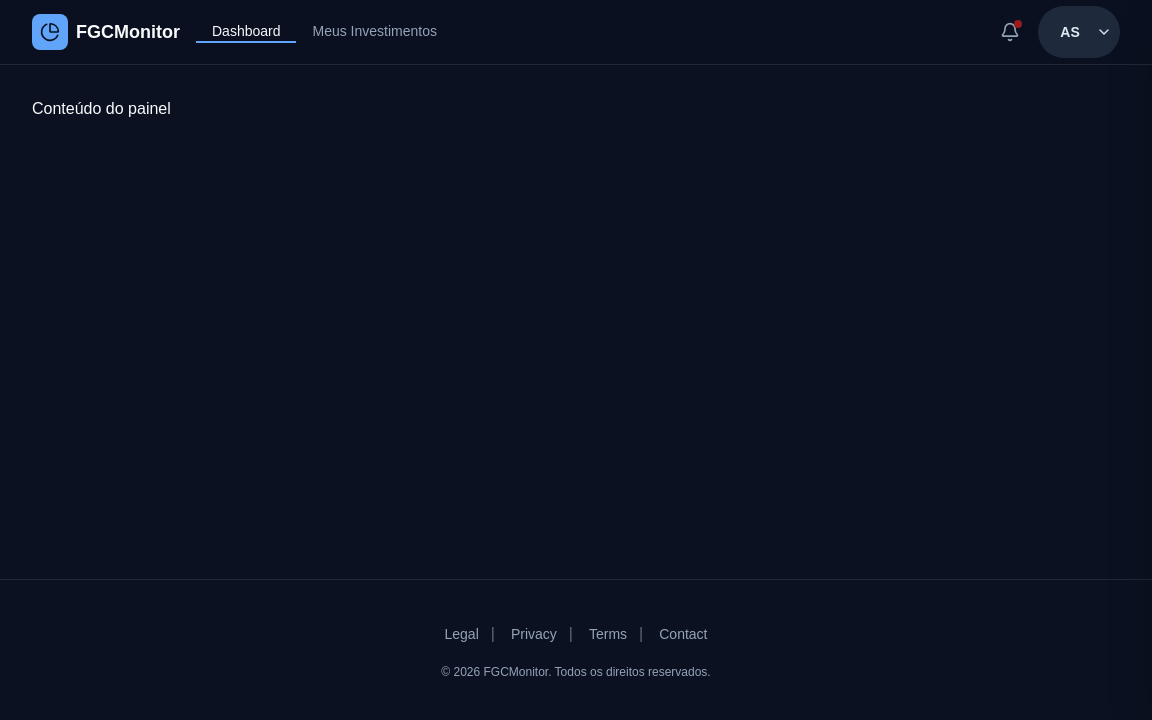
Scenario: AppLayout › mostra o menu do perfil do usuário no header
The width and height of the screenshot is (1152, 720).
Click the button with aria-label "menu do perfil": (1079, 32) [1038, 6, 1120, 58]
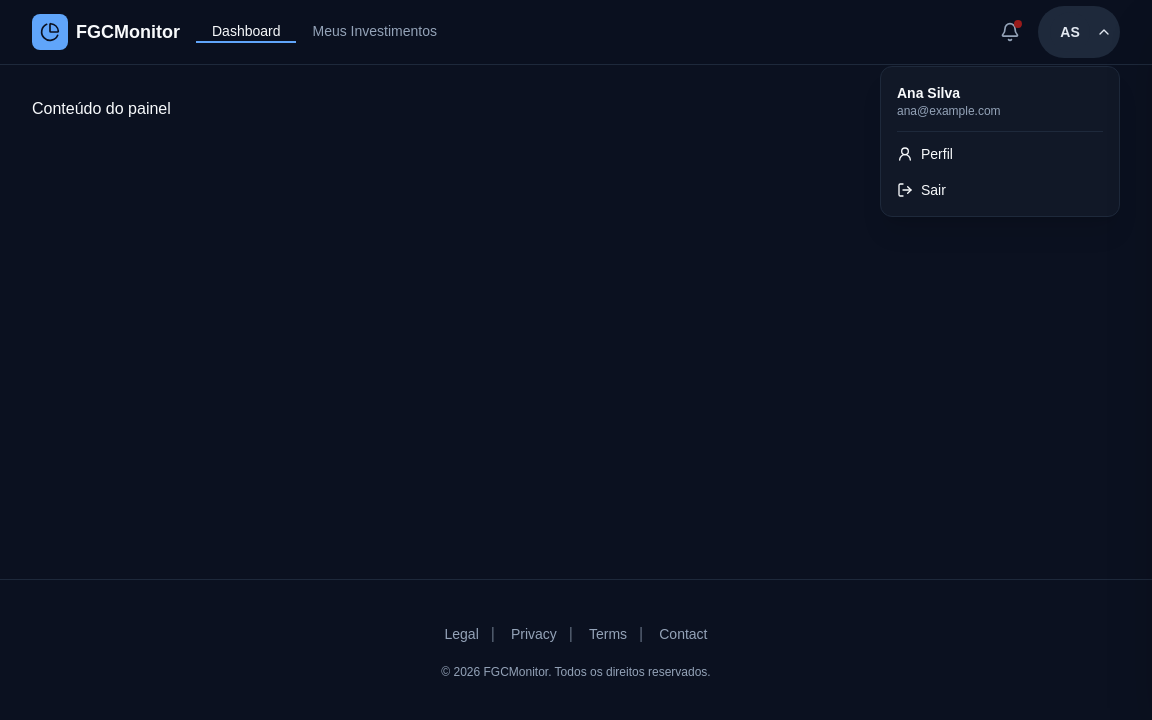
Now the text "Ana Silva" is shown, box [897, 85, 960, 101]
Now the text "ana@example.com" is shown, box [897, 104, 1001, 118]
